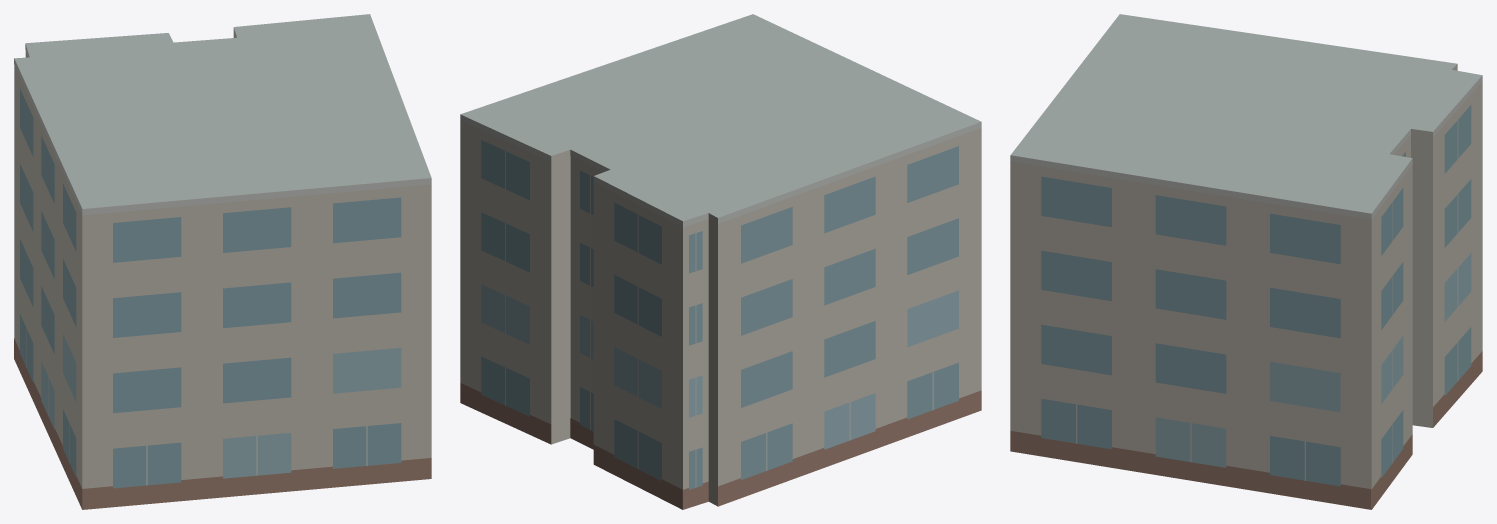
File: survey-upis-32989817.glb
3 views of the same model, side by side, from view 1: azimuth 30°, elevation 25°; view 2: azimuth 150°, elevation 25°; view 3: azimuth 270°, elevation 25° (orthographic). The views are drawn at different scales.
Visible parts, largest first — view 1: survey-upis-32989817.tmp; view 2: survey-upis-32989817.tmp; view 3: survey-upis-32989817.tmp.
Boxes of the visible parts, bbox=[...] form: survey-upis-32989817.tmp: bbox=[14, 14, 431, 509]; survey-upis-32989817.tmp: bbox=[460, 14, 981, 509]; survey-upis-32989817.tmp: bbox=[1010, 14, 1482, 509].
Bounding box in the file's own units: 17.07 × 11.8 × 17.05.
